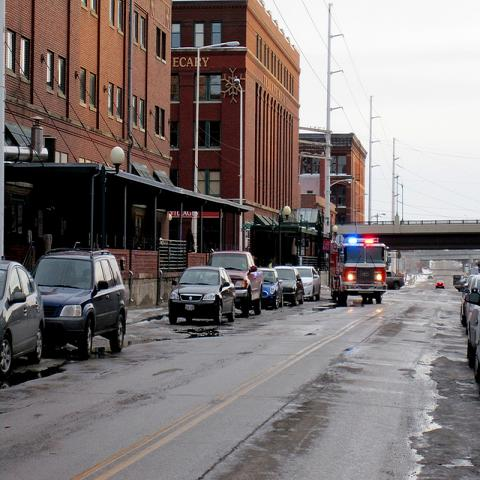car: (32, 250, 128, 360), (1, 259, 46, 381), (169, 266, 236, 324), (466, 277, 480, 382), (274, 265, 305, 305), (455, 274, 477, 327), (258, 268, 286, 308), (294, 266, 320, 301), (386, 270, 404, 290), (453, 275, 473, 293), (435, 279, 445, 290), (428, 272, 433, 279)
truck: (33, 248, 128, 358), (325, 231, 392, 307), (206, 248, 264, 318)
